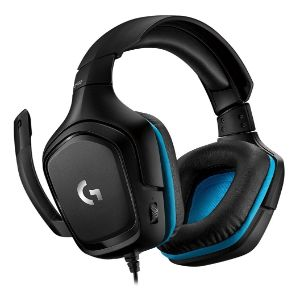headset: (9, 6, 285, 285)
